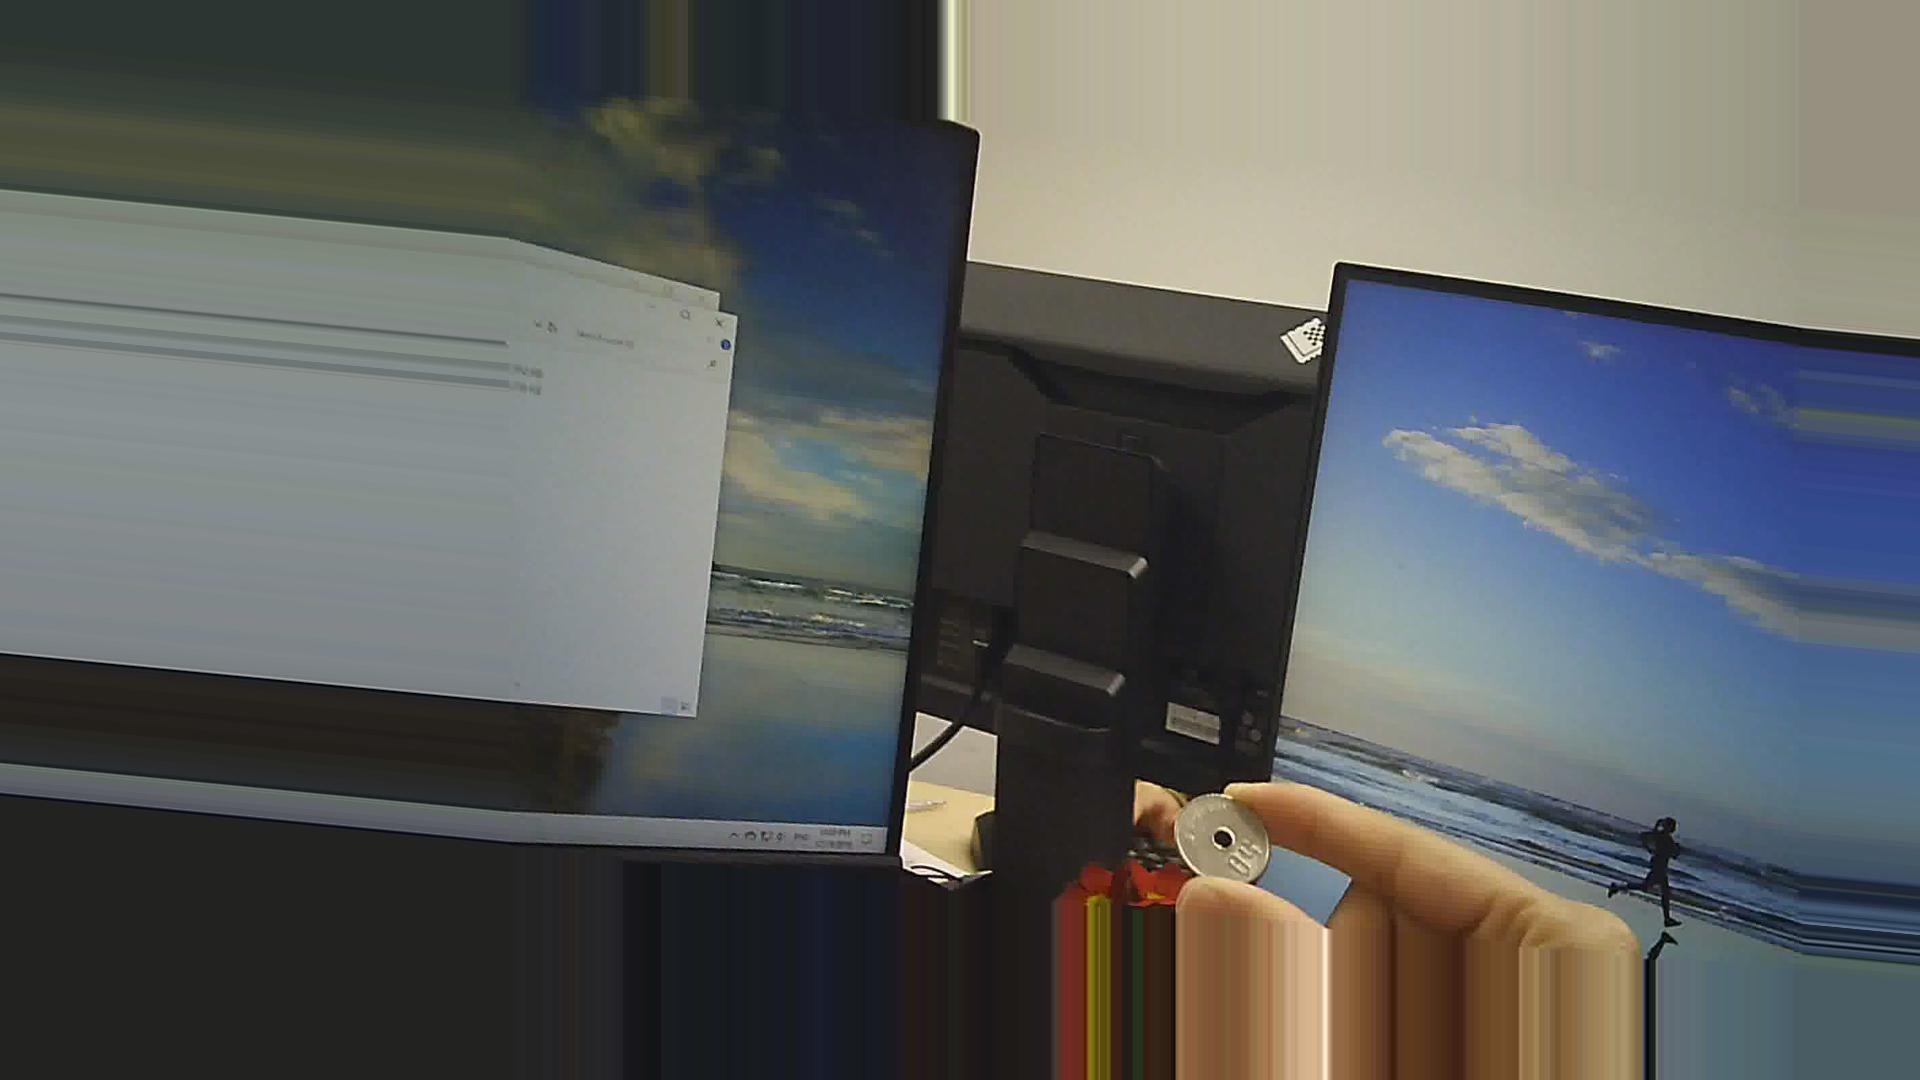50 Yen: (1160, 793, 1288, 899)
